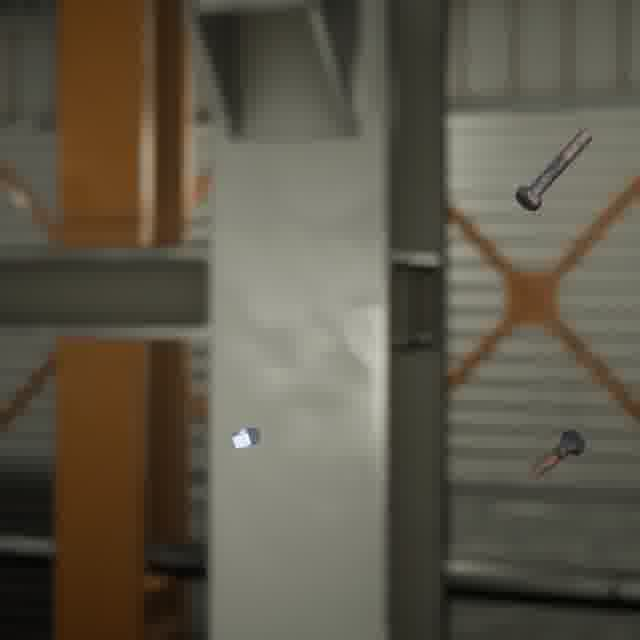bolt: (511, 125, 596, 215), (526, 424, 589, 481)
nut: (224, 422, 265, 452)
